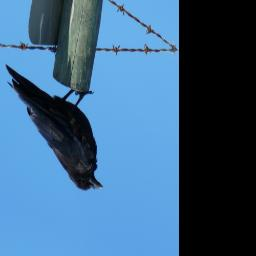Crow: (0, 59, 117, 199)
